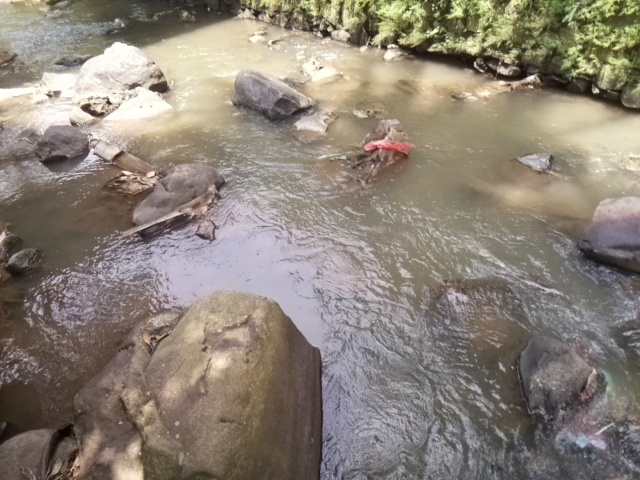Sampah_Plastik: (361, 137, 416, 156)
